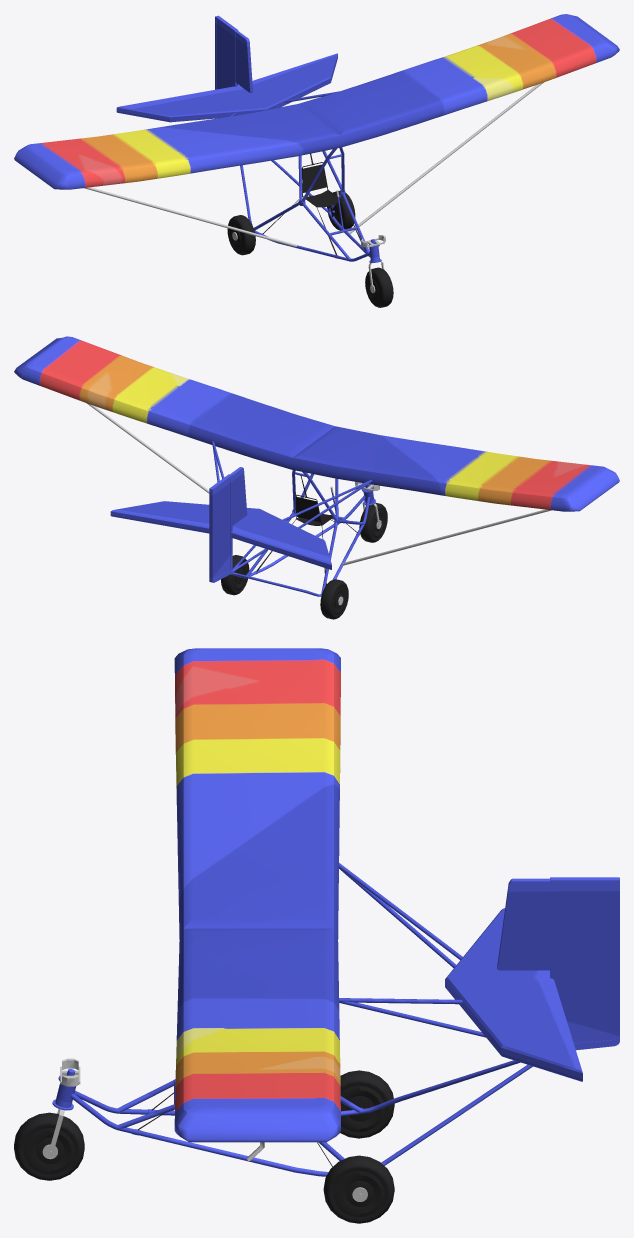
The model's file is ultralight craft.fbx.
3 views of the same model, one above another, from view 1: azimuth 30°, elevation 25°; view 2: azimuth 150°, elevation 25°; view 3: azimuth 270°, elevation 25° (orthographic). The views are drawn at different scales.
Parts seen in each view (by area): view 1: models_f19:models_f18:models_f17:models_f16:models_f15:model (×4); view 2: models_f19:models_f18:models_f17:models_f16:models_f15:model (×4); view 3: models_f19:models_f18:models_f17:models_f16:models_f15:model (×4).
Boxes of the visible parts, box(x1,y1,x2,y2) form: models_f19:models_f18:models_f17:models_f16:models_f15:model (×4): box(14, 14, 619, 307); models_f19:models_f18:models_f17:models_f16:models_f15:model (×4): box(14, 336, 619, 619); models_f19:models_f18:models_f17:models_f16:models_f15:model (×4): box(14, 648, 619, 1223).
Bounding box in the file's own units: 18.65 × 5.38 × 9.86.
